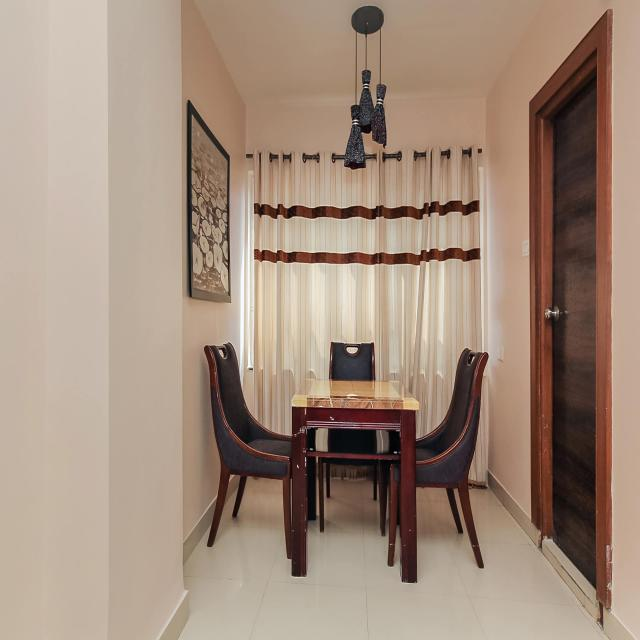Chair: (383, 346, 491, 587), (204, 340, 302, 567), (316, 339, 389, 539)
